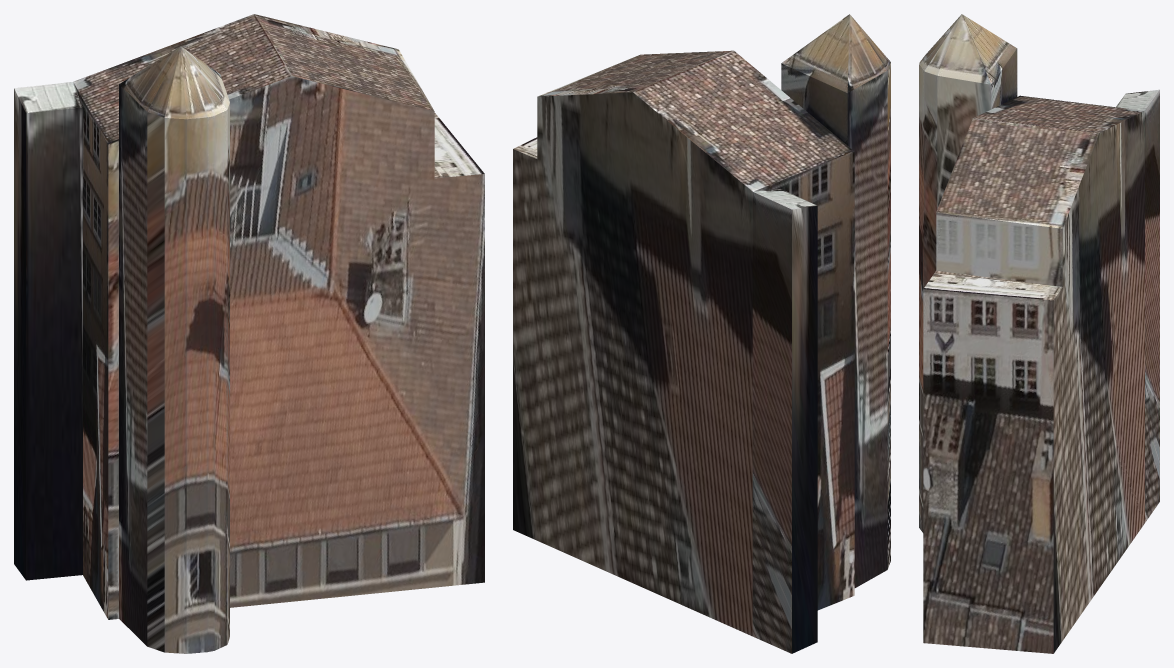
3 views of the same model, side by side, from view 1: azimuth 30°, elevation 25°; view 2: azimuth 150°, elevation 25°; view 3: azimuth 270°, elevation 25° (orthographic). The views are drawn at different scales.
Visible parts, largest first — view 1: Z_UP; view 2: Z_UP; view 3: Z_UP.
Boxes of the visible parts, x1,y1,x2,y2 form: Z_UP: [14, 14, 484, 653]; Z_UP: [513, 14, 890, 653]; Z_UP: [919, 14, 1159, 653].
Bounding box in the file's own units: 17.28 × 26.44 × 11.31.
Materials: 2 (1 with a texture image).
